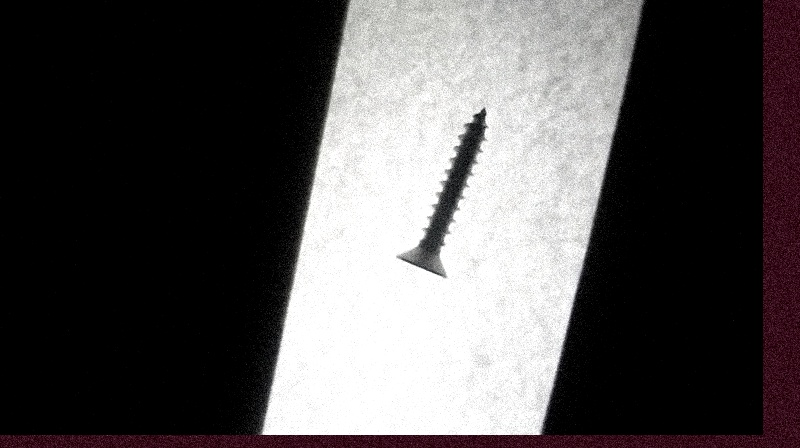S001: (392, 102, 488, 281)
